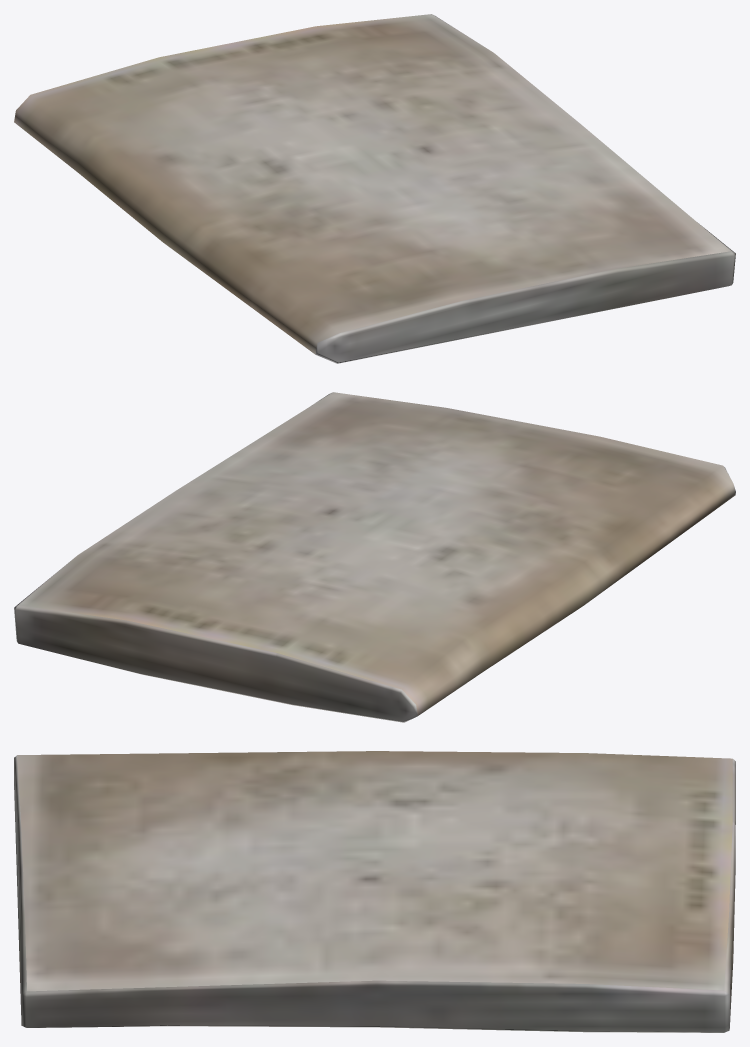
Rendered from newspaper_a.glb.
3 renders of one model, top to bottom at view 1: azimuth 30°, elevation 25°; view 2: azimuth 150°, elevation 25°; view 3: azimuth 270°, elevation 25°, orthographic. The views are drawn at different scales.
Parts seen in each view (by area): view 1: newspaper_a; view 2: newspaper_a; view 3: newspaper_a.
Part boxes in pixels (bbox=[...]): newspaper_a: bbox=[14, 14, 735, 363]; newspaper_a: bbox=[14, 392, 735, 722]; newspaper_a: bbox=[14, 751, 735, 1032].
Bounding box in the file's own units: 0.3206 × 0.0476 × 0.4162.
Materials: 1 (1 with a texture image).
